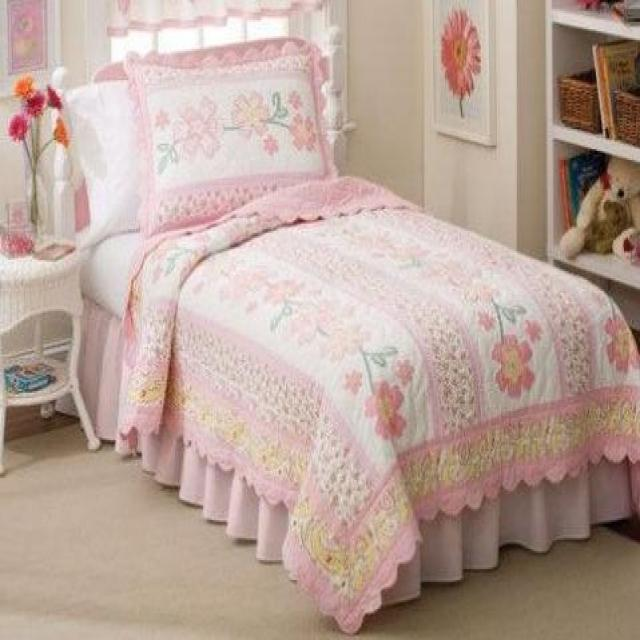bed: (45, 24, 640, 636)
